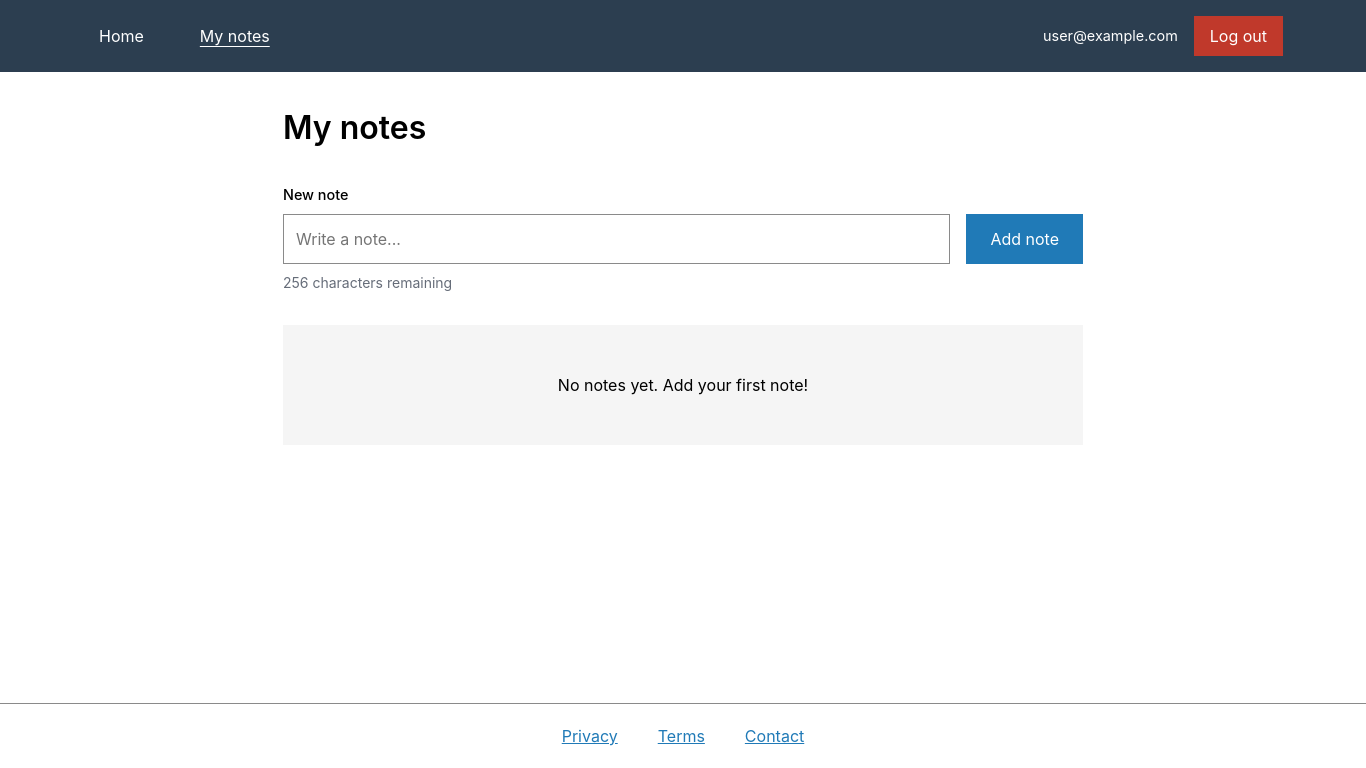
Test: Notes, through the whole app › shows the API's message at the notes cap, and keeps the typed note
The width and height of the screenshot is (1366, 768).
Expected: the text "No notes yet. Add your first note!" is shown, [283,325,1083,445]
In the field labelled "New note": (617, 239) [283,214,950,264], type "One too many"
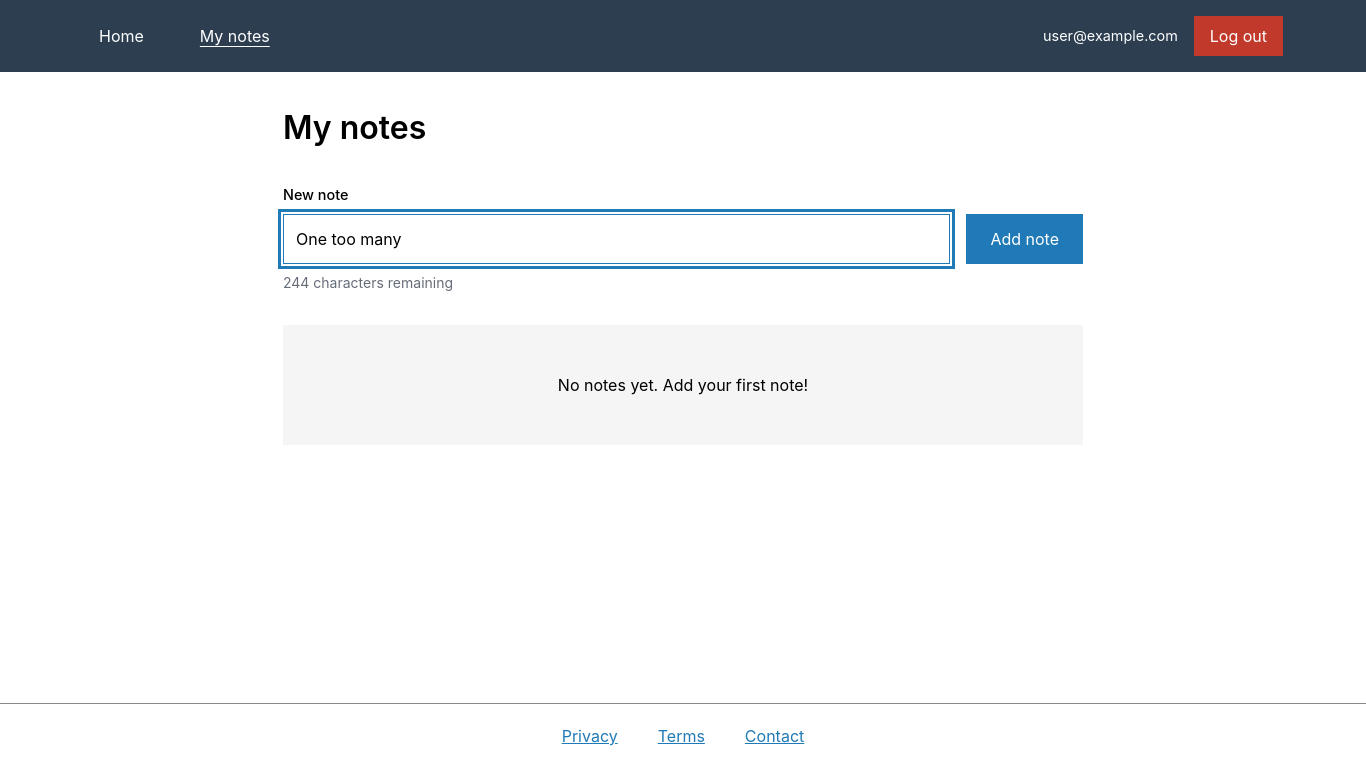
Click the button "Add note": (1025, 239) [966,214,1083,264]
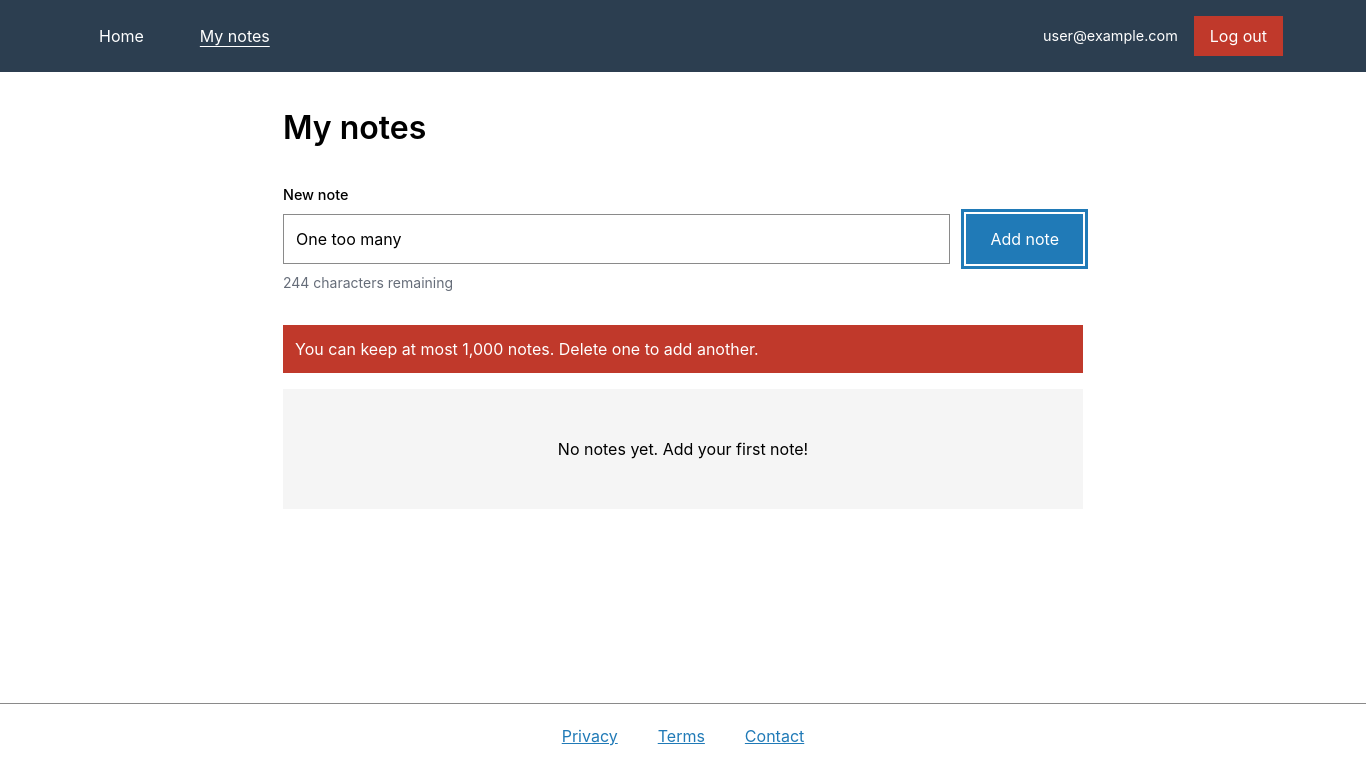
Expected: the message reads "You can keep at most 1,000 notes. Delete one to add another.", [295,339,759,359]
